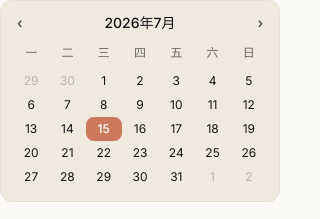
it: MiniCalendar 上下月翻页 › 点 ‹ 显示上月
Click the button named "上个月".
click(20, 23)  # box [13, 13, 27, 33]
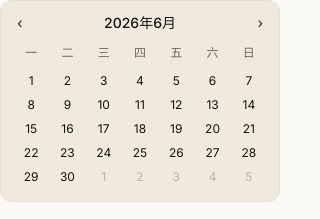
Expected: the text "2026年6月" is shown, [104, 13, 176, 33]
